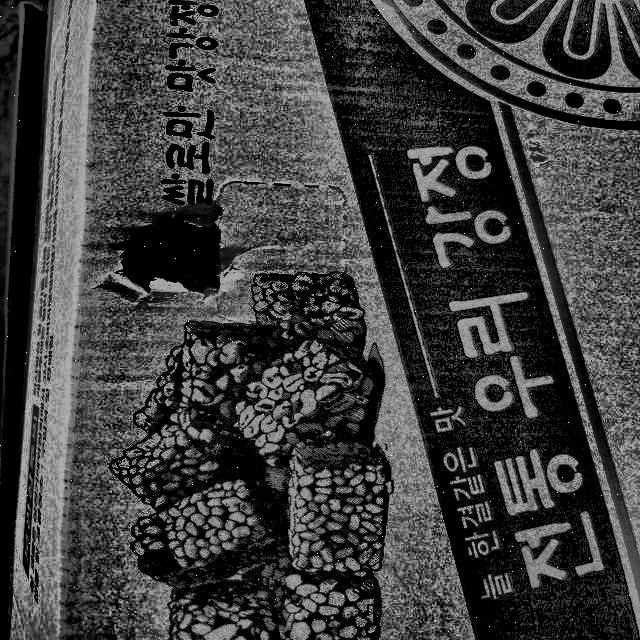box: (0, 0, 639, 639)
hole: (127, 206, 230, 302)
